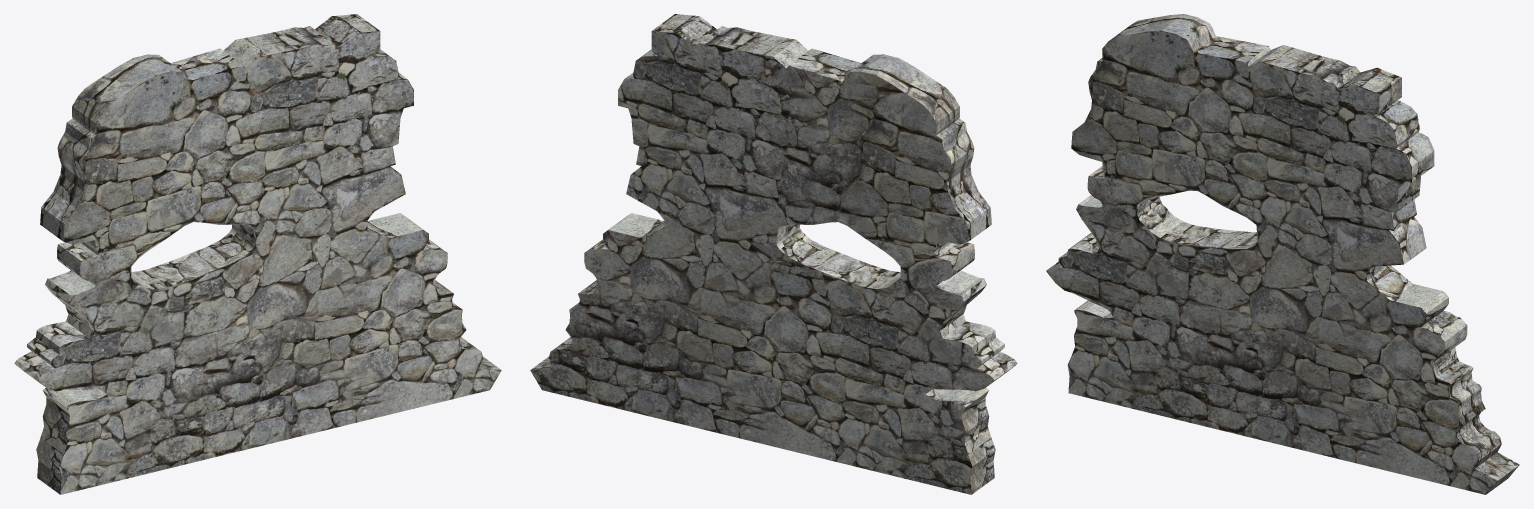
The model's file is zid5.fbx.
3 views of the same model, side by side, from view 1: azimuth 30°, elevation 25°; view 2: azimuth 150°, elevation 25°; view 3: azimuth 330°, elevation 25° (orthographic). The views are drawn at different scales.
Visible parts, largest first — view 1: Mesh5; view 2: Mesh5; view 3: Mesh5.
Boxes of the visible parts, box(x1,y1,x2,y2) form: Mesh5: box(14, 14, 501, 494); Mesh5: box(530, 14, 1017, 494); Mesh5: box(1046, 14, 1519, 494).
Size of the model in its own units: 5.99 by 4.89 by 0.52.
